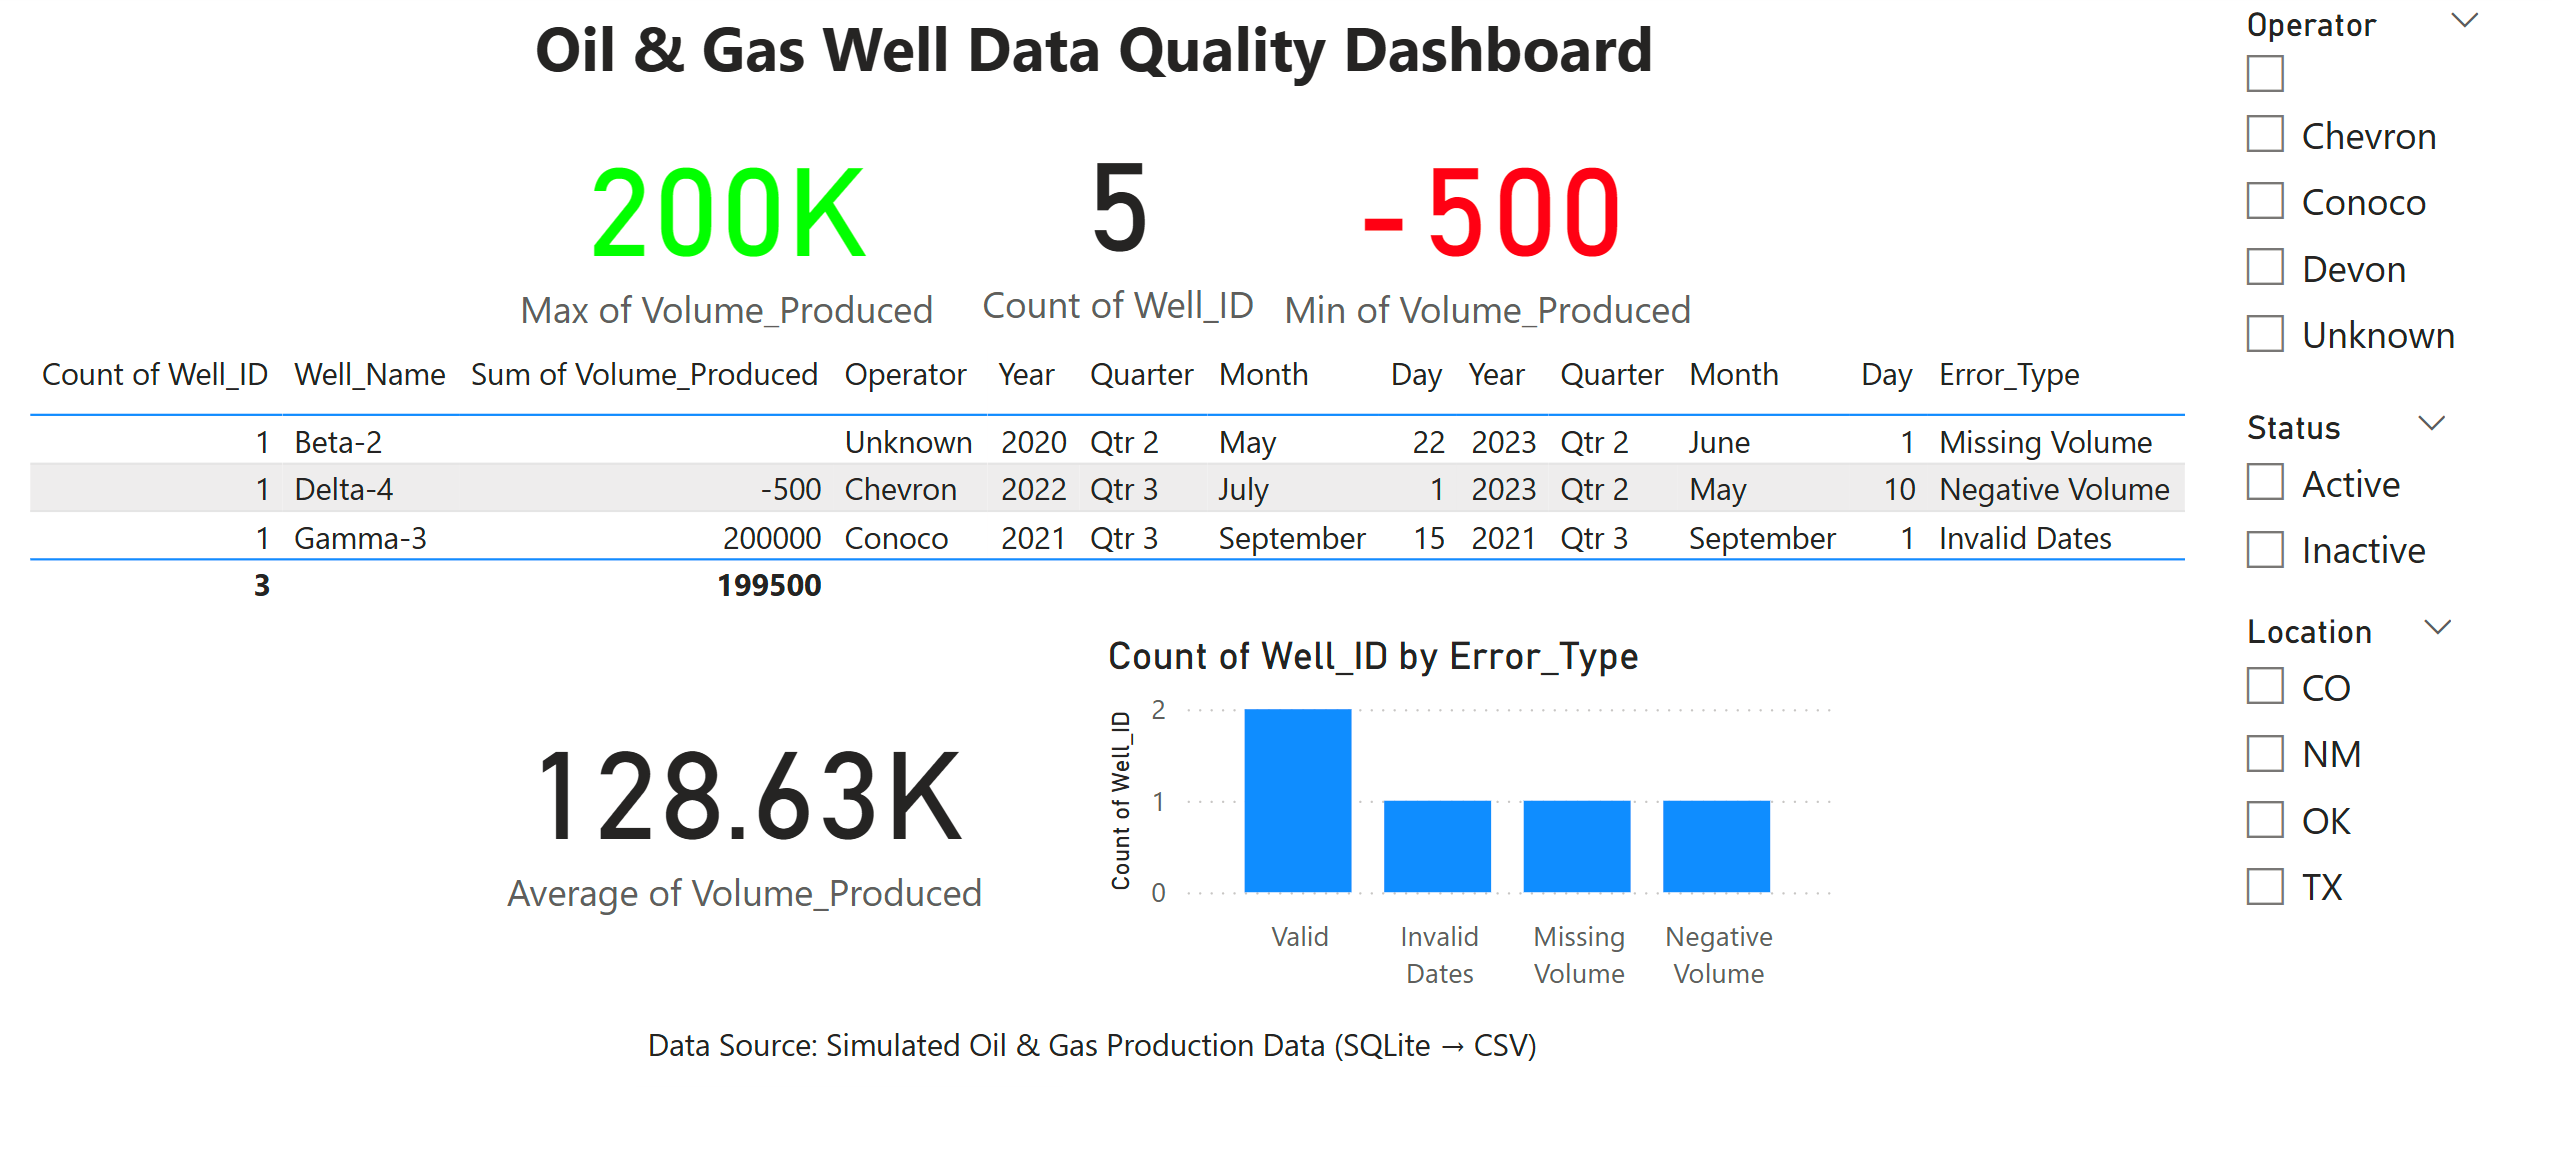

Layout of this report page (visuals, bound fields, positions):
{"tool":"powerbi","page":{"name":"Page 1","canvas":[1280,720],"ordinal":0},"visuals":[{"type":"card","fields":{"Values":["CountNonNull(well_production_clean.Well_ID)"]},"box":[574.2,43.3,132,107.3],"z":0,"group":"g1"},{"type":"tableEx","fields":{"Values":["CountNonNull(well_production_clean.Well_ID)","well_production_clean.Well_Name","Sum(well_production_clean.Volume_Produced)","well_production_clean.Operator","well_production_clean.Prod_Start.Variation.Date Hierarchy.Year","well_production_clean.Prod_Start.Variation.Date Hierarchy.Quarter","well_production_clean.Prod_Start.Variation.Date Hierarchy.Month","well_production_clean.Prod_Start.Variation.Date Hierarchy.Day","well_production_clean.Prod_End.Variation.Date Hierarchy.Year","well_production_clean.Prod_End.Variation.Date Hierarchy.Quarter","well_production_clean.Prod_End.Variation.Date Hierarchy.Month","well_production_clean.Prod_End.Variation.Date Hierarchy.Day"]},"box":[160,150.7,959.3,128],"z":0},{"type":"group","id":"g1","title":"Group 1","box":[364.9,0,591.2,443.4],"z":1000},{"type":"card","fields":{"Values":["Min(well_production_clean.Volume_Produced)"]},"box":[703.6,48,195.3,102.7],"z":1000,"group":"g1"},{"type":"card","fields":{"Values":["Max(well_production_clean.Volume_Produced)"]},"box":[364.9,48,209.3,102.7],"z":2000,"group":"g1"},{"type":"textbox","box":[430.3,443.4,407.4,33.4],"z":2000},{"type":"slicer","fields":{"Values":["well_production_clean.Status"]},"box":[1119.6,175.9,112.5,88.9],"z":2002},{"type":"slicer","fields":{"Values":["well_production_clean.Location"]},"box":[1119.6,264.9,115.1,149.8],"z":2003},{"type":"slicer","fields":{"Values":["well_production_clean.Operator"]},"box":[1119.6,0,126.9,175.9],"z":2004},{"type":"card","fields":{"Values":["Avg(well_production_clean.Volume_Produced)"]},"box":[365.8,278.6,224.3,149.8],"z":3000,"group":"g1"},{"type":"clusteredColumnChart","fields":{"Category":["well_production_clean.Error_Type"],"Y":["CountNonNull(well_production_clean.Well_ID)"]},"box":[630.9,278.8,325.6,164.4],"z":4000,"group":"g1"},{"type":"textbox","box":[381.6,0,522,48],"z":5000,"group":"g1"}]}

Visuals, with their boxes on the page's 1280x720 design canvas (x1, y1, x2, y2). These are canvas units, not pixel positions in the 2552x1160 screenshot, which may show the page scaled, cropped or inside an application window:
card - CountNonNull(well_production_clean.Well_ID): 574, 43, 706, 151
tableEx - CountNonNull(well_production_clean.Well_ID) x well_production_clean.Well_Name: 160, 151, 1119, 279
"Group 1" group: 365, 0, 956, 443
card - Min(well_production_clean.Volume_Produced): 704, 48, 899, 151
card - Max(well_production_clean.Volume_Produced): 365, 48, 574, 151
textbox: 430, 443, 838, 477
slicer - well_production_clean.Status: 1120, 176, 1232, 265
slicer - well_production_clean.Location: 1120, 265, 1235, 415
slicer - well_production_clean.Operator: 1120, 0, 1246, 176
card - Avg(well_production_clean.Volume_Produced): 366, 279, 590, 428
clusteredColumnChart - well_production_clean.Error_Type x CountNonNull(well_production_clean.Well_ID): 631, 279, 956, 443
textbox: 382, 0, 904, 48
